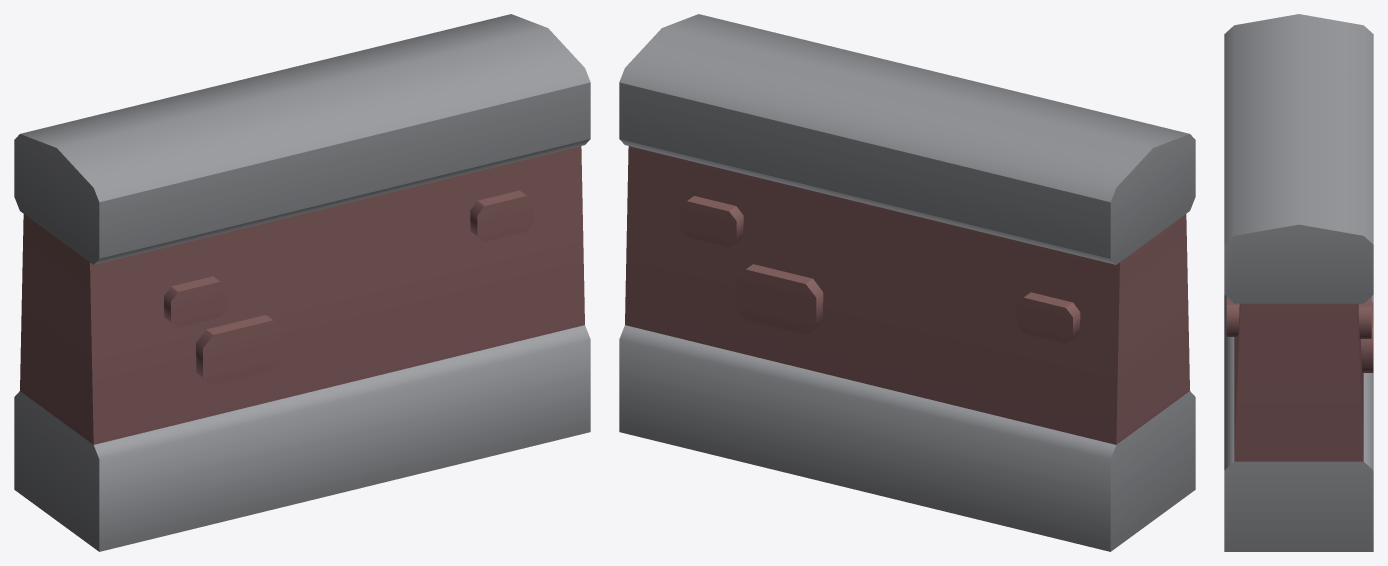
Rendered from brick-wall.glb.
The picture shows the model from 3 angles, left to right: view 1: azimuth 30°, elevation 25°; view 2: azimuth 150°, elevation 25°; view 3: azimuth 270°, elevation 25°; orthographic projection. The views are drawn at different scales.
Parts seen in each view (by area): view 1: brick-wall; view 2: brick-wall; view 3: brick-wall.
Part boxes in pixels (left/top/right/bottom): brick-wall: left=14, top=14, right=590, bottom=551; brick-wall: left=619, top=14, right=1195, bottom=551; brick-wall: left=1224, top=14, right=1373, bottom=551.
Bounding box in the file's own units: 2.4 × 1.74 × 0.72.
Materials: 1 (1 with a texture image).
